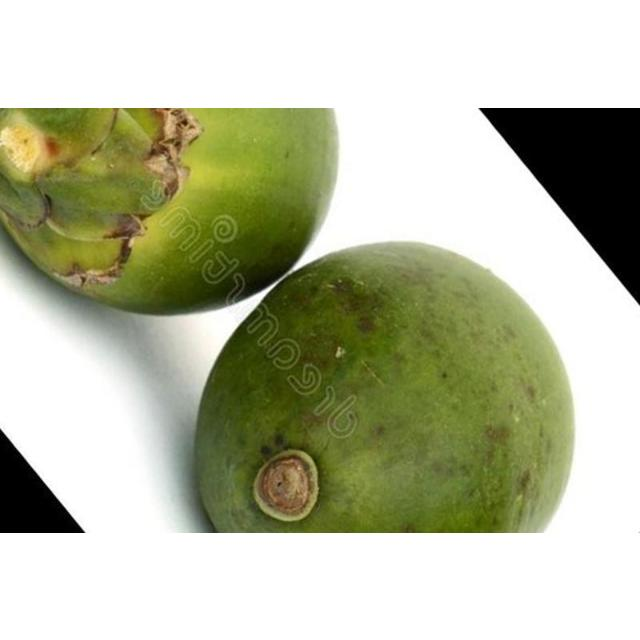good: (192, 241, 577, 532), (0, 107, 341, 317)
